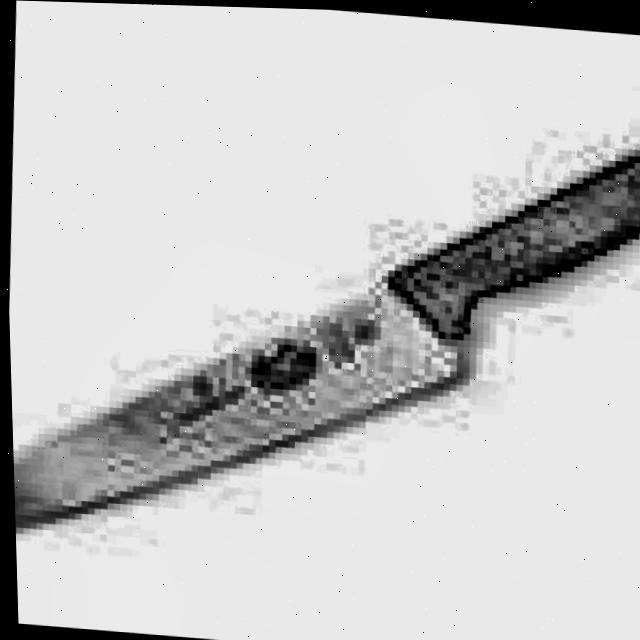pisau: (2, 80, 640, 600)
